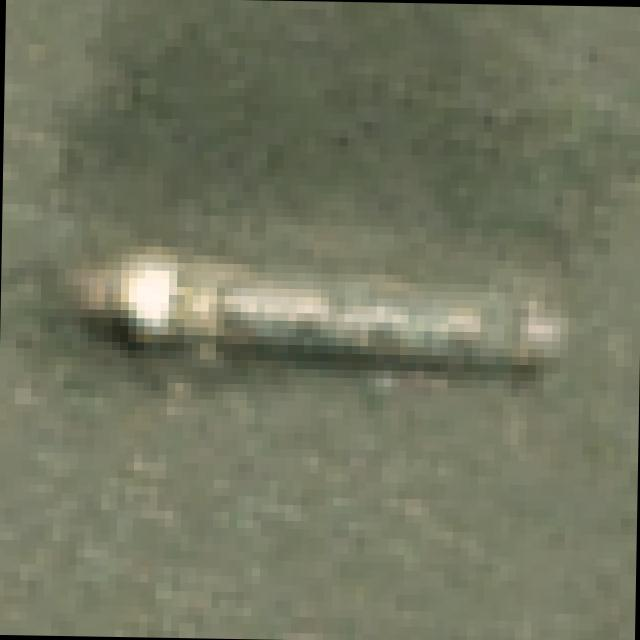ship: (0, 218, 601, 420)
